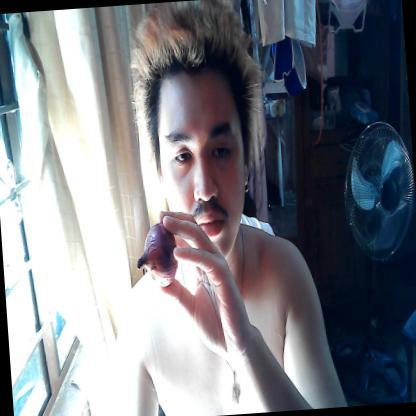onion: (132, 216, 183, 296)
